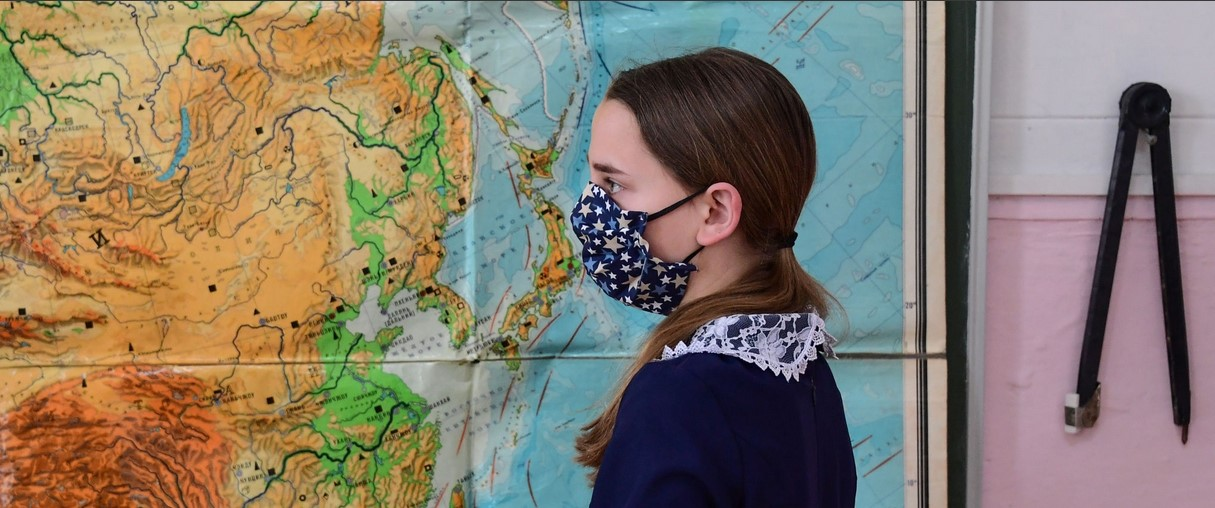face_with_mask: (570, 45, 816, 316)
